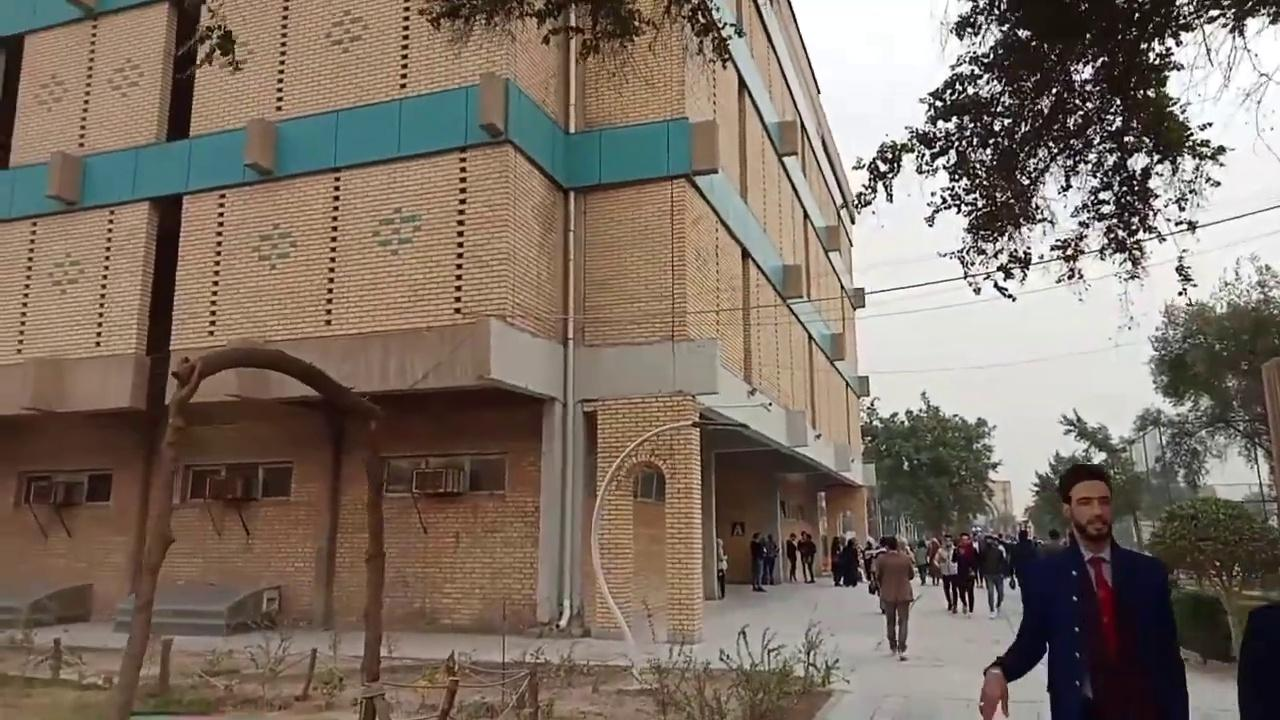person: (978, 462, 1190, 719), (716, 536, 728, 599)
tree: (848, 0, 1278, 318), (107, 344, 388, 717), (1143, 253, 1279, 522), (412, 0, 746, 76), (858, 388, 1002, 543), (1145, 494, 1279, 660), (1024, 407, 1147, 550), (1130, 405, 1208, 496), (1024, 449, 1089, 539)
